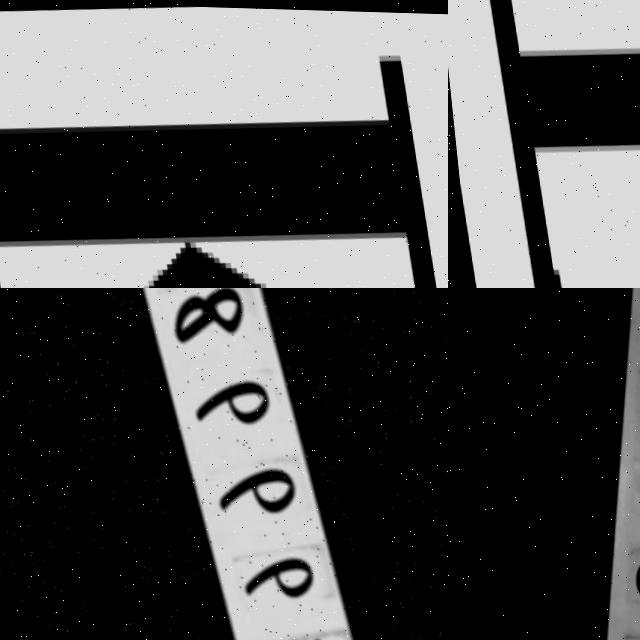4: (234, 612, 351, 640)
6: (185, 439, 307, 536), (165, 352, 284, 447), (212, 531, 322, 618)
7: (614, 450, 640, 529)
8: (139, 288, 267, 361), (606, 536, 640, 618)
B: (487, 0, 640, 288)
K: (0, 30, 448, 288)
